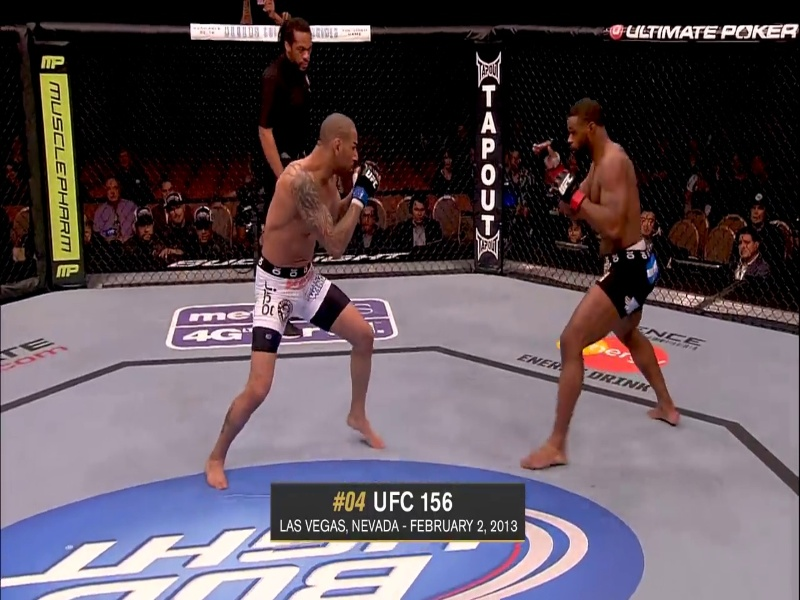fighter: (201, 111, 403, 493), (505, 84, 685, 473)
